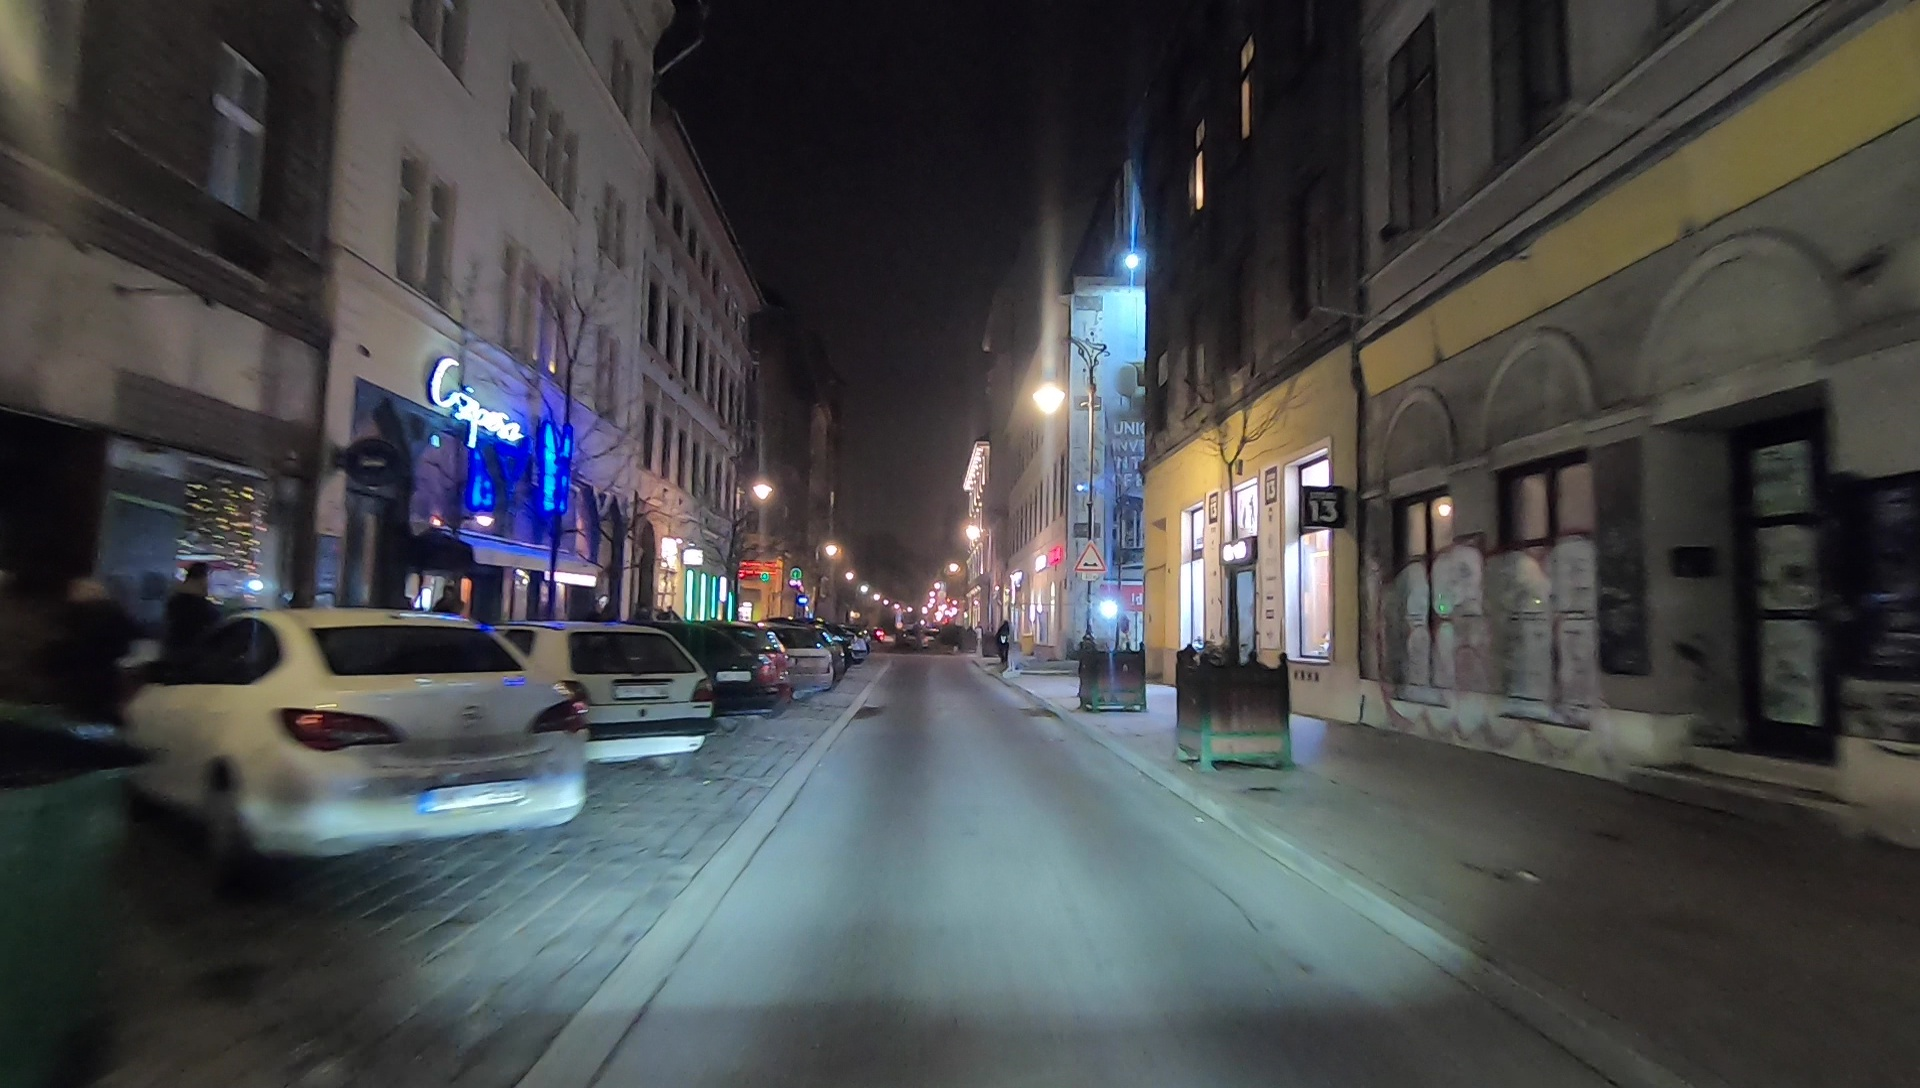person: (60, 580, 158, 787), (165, 567, 226, 737), (997, 615, 1012, 674)
